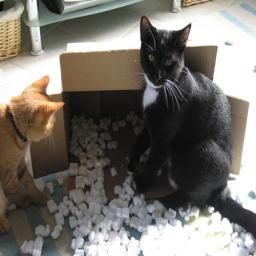catnose: (153, 68, 161, 83)
